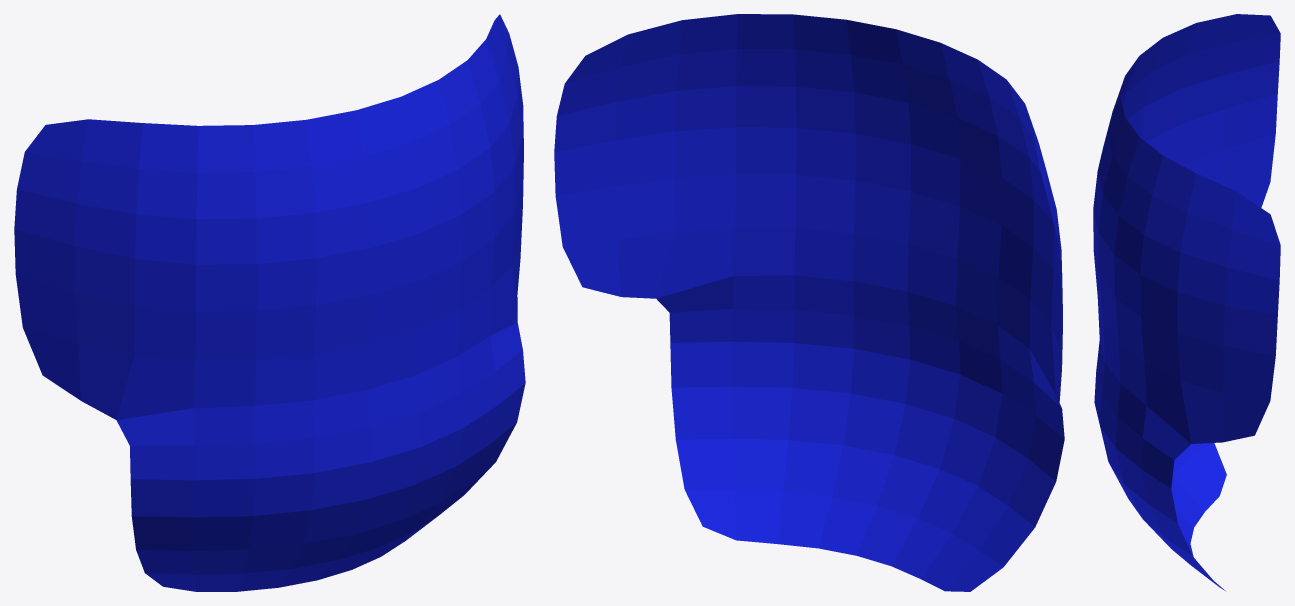
3 renders of one model, left to right at view 1: azimuth 30°, elevation 25°; view 2: azimuth 150°, elevation 25°; view 3: azimuth 270°, elevation 25°, orthographic. The views are drawn at different scales.
Visible parts, largest first — view 1: FaceIdle; view 2: FaceIdle; view 3: FaceIdle.
Part boxes in pixels (box(x1,y1,x2,y2)): FaceIdle: box(14, 14, 525, 591); FaceIdle: box(554, 14, 1064, 591); FaceIdle: box(1093, 14, 1280, 590).
Size of the model in its own units: 31.87 by 29.85 by 11.36.
